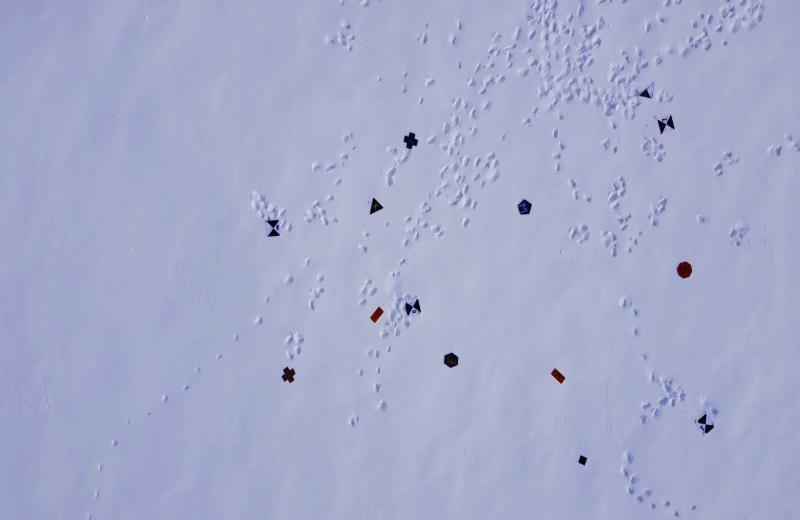Cross: (280, 366, 297, 386), (403, 131, 419, 151)
Hexagon: (442, 352, 460, 370)
Octagon: (676, 260, 694, 280)
Pentagon: (516, 198, 532, 216)
Rectangle: (366, 304, 384, 326), (550, 366, 566, 385)
Square: (577, 453, 589, 468)
Triangle: (366, 197, 384, 216)
